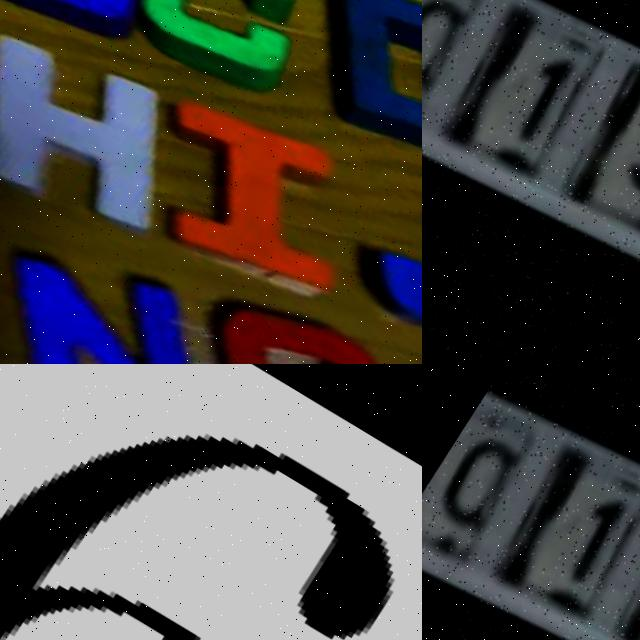0: (422, 411, 540, 541), (422, 0, 488, 100)
1: (485, 29, 601, 157), (536, 470, 640, 598)
3: (599, 76, 640, 216)
6: (0, 364, 422, 640)
B: (0, 0, 183, 55)
C: (99, 0, 343, 109)
D: (277, 0, 422, 184)
H: (0, 10, 226, 266)
I: (123, 78, 399, 324)
J: (345, 154, 422, 361)
N: (0, 212, 283, 364)
O: (168, 280, 422, 364)
